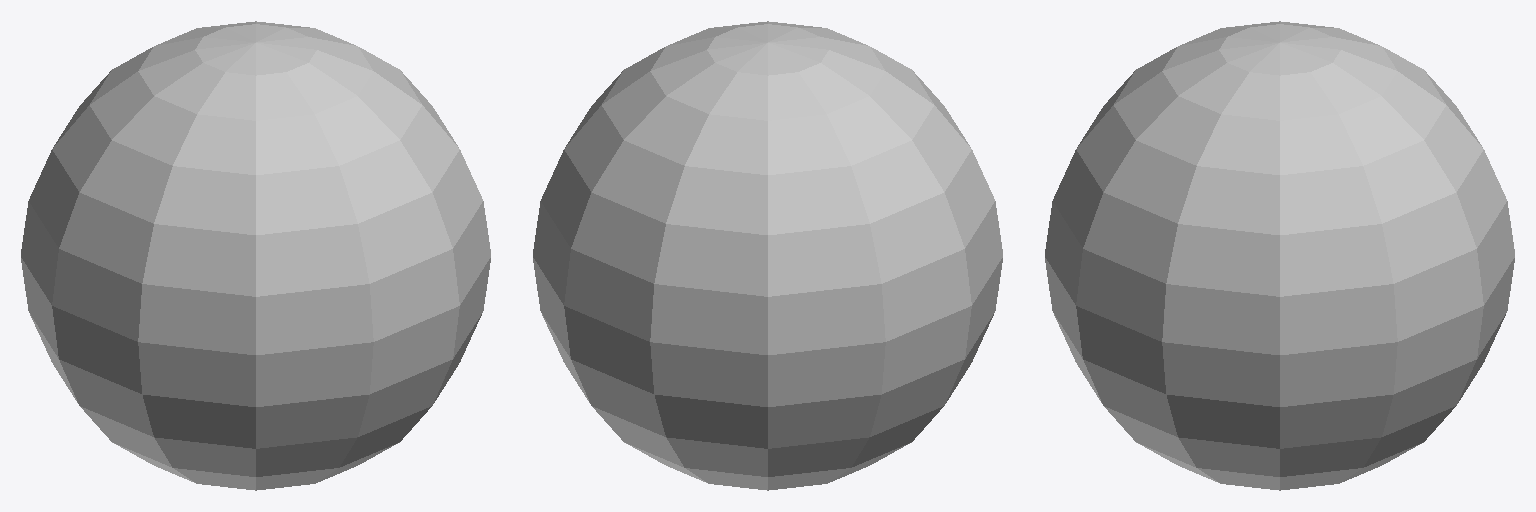
File: leaf_2.obj
3 views of the same model, side by side, from view 1: azimuth 30°, elevation 25°; view 2: azimuth 150°, elevation 25°; view 3: azimuth 270°, elevation 25° (orthographic).
Parts seen in each view (by area): view 1: Sphere.001; view 2: Sphere.001; view 3: Sphere.001.
Boxes of the visible parts, box(x1,y1,x2,y2) form: Sphere.001: box(21, 21, 490, 490); Sphere.001: box(533, 21, 1002, 490); Sphere.001: box(1045, 21, 1514, 490).
Bounding box in the file's own units: 2 × 2 × 2.